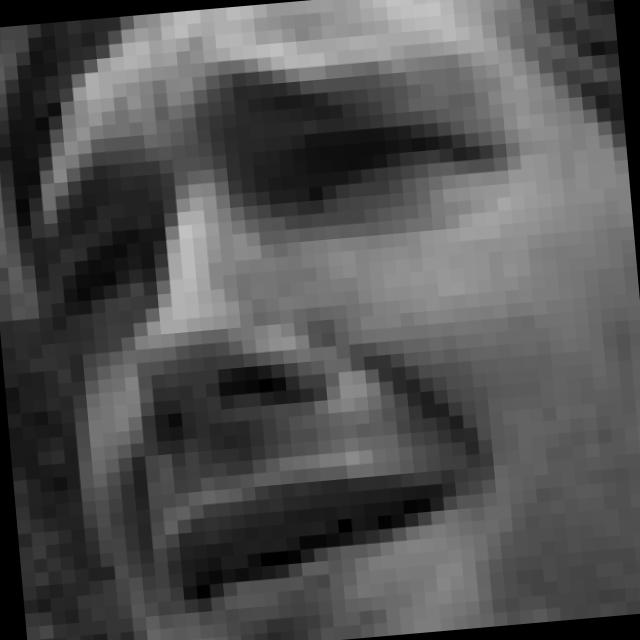sad: (32, 25, 553, 640)
